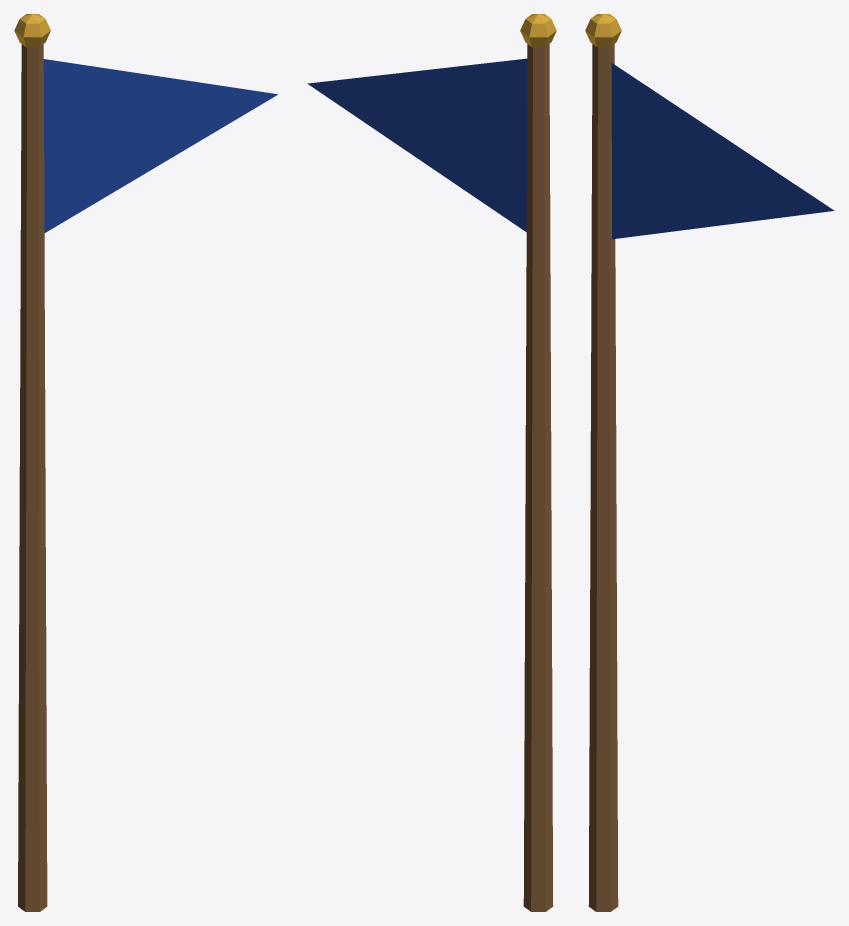
Rendered from Race_Flag_Blue.obj.
3 renders of one model, left to right at view 1: azimuth 30°, elevation 25°; view 2: azimuth 150°, elevation 25°; view 3: azimuth 330°, elevation 25°, orthographic.
Visible parts, largest first — view 1: Race_Flag_Blue; view 2: Race_Flag_Blue; view 3: Race_Flag_Blue.
Part boxes in pixels (x1,y1,x2,y2): Race_Flag_Blue: (14,14,277,911); Race_Flag_Blue: (307,14,556,911); Race_Flag_Blue: (585,14,834,911).
Bounding box in the file's own units: 0.7933 × 2.68 × 0.1.
